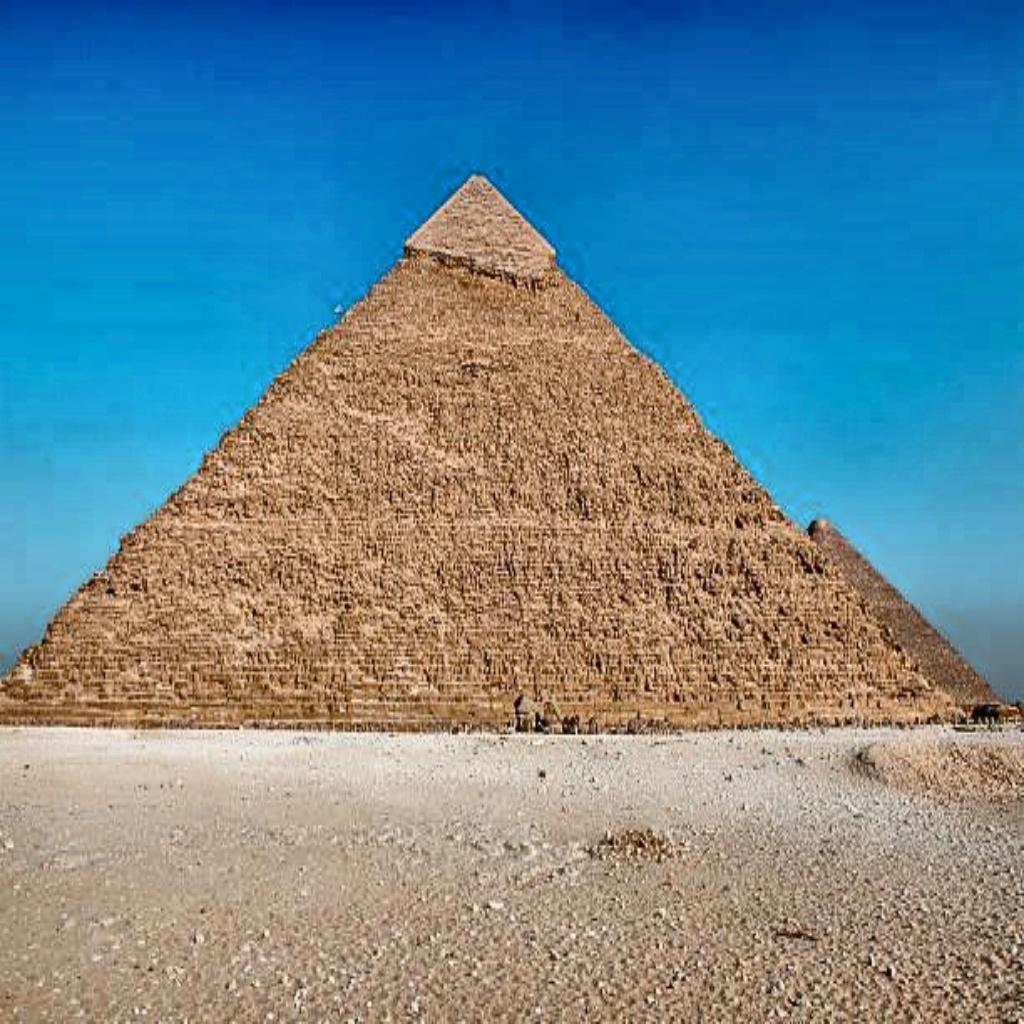Great Pyramids of Giza: (2, 168, 1009, 732)
